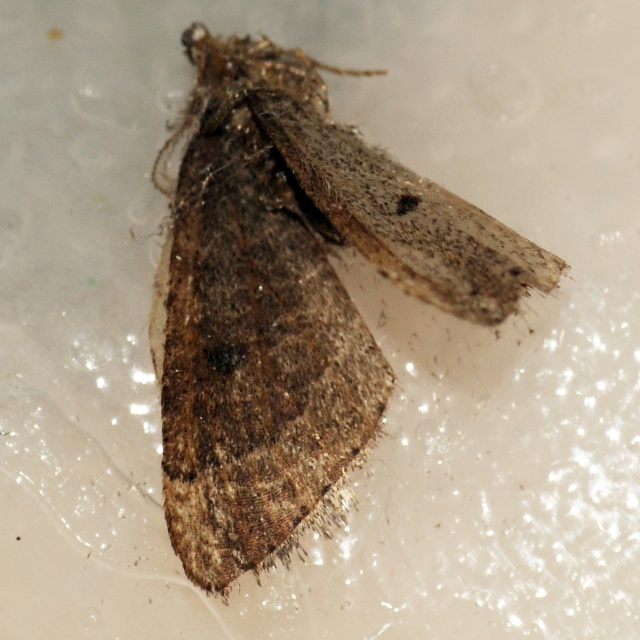Moths and butterflies: (143, 16, 576, 609)
